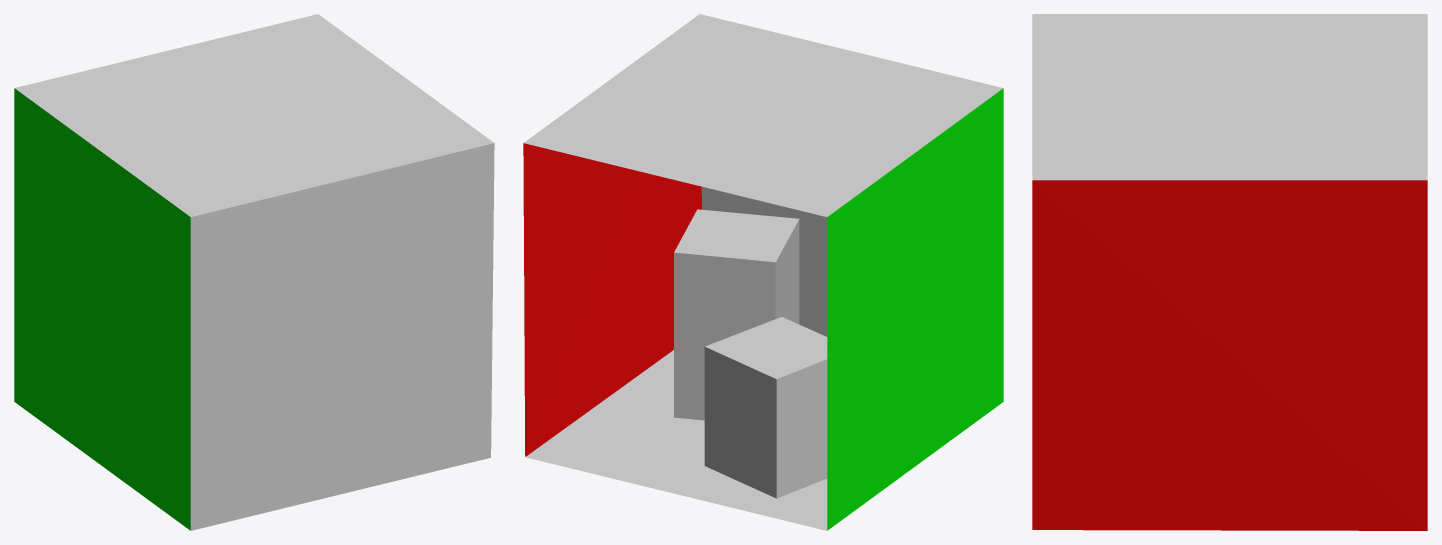
The model's file is cornell_box_multimaterial.obj.
The picture shows the model from 3 angles, left to right: view 1: azimuth 30°, elevation 25°; view 2: azimuth 150°, elevation 25°; view 3: azimuth 270°, elevation 25°; orthographic projection. The views are drawn at different scales.
Visible parts, largest first — view 1: back_wall, green_wall, ceiling; view 2: green_wall, ceiling, red_wall, short_block, floor, tall_block, back_wall; view 3: red_wall, ceiling.
Boxes of the visible parts, box(x1,y1,x2,y2) form: back_wall: box(190, 143, 494, 530); green_wall: box(14, 88, 190, 530); ceiling: box(14, 14, 493, 216); green_wall: box(827, 88, 1003, 530); ceiling: box(524, 14, 1003, 216); red_wall: box(523, 143, 701, 456); short_block: box(704, 317, 827, 498); floor: box(525, 350, 827, 530); tall_block: box(674, 209, 799, 420); back_wall: box(701, 186, 827, 336); red_wall: box(1032, 180, 1427, 530); ceiling: box(1032, 14, 1427, 180).
Bounding box in the file's own units: 55.6 × 54.88 × 55.92.
